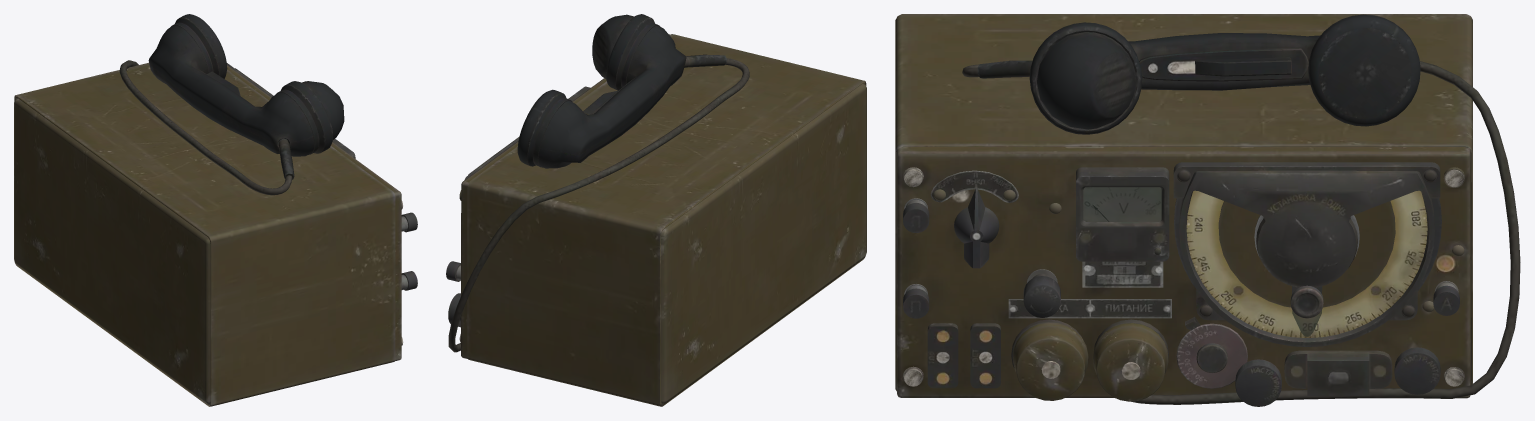
Rendered from a7b_ussr_military_radio-opt.glb.
3 views of the same model, side by side, from view 1: azimuth 30°, elevation 25°; view 2: azimuth 150°, elevation 25°; view 3: azimuth 270°, elevation 25° (orthographic). The views are drawn at different scales.
Visible parts, largest first — view 1: A7b_militaryradio_a7b texture_0; view 2: A7b_militaryradio_a7b texture_0; view 3: A7b_militaryradio_a7b texture_0, strzalkaplaskiowa_low.001_a7b texture glass_0.
Part boxes in pixels (x1=…): A7b_militaryradio_a7b texture_0: x1=14, y1=14, x2=417, y2=406; A7b_militaryradio_a7b texture_0: x1=446, y1=14, x2=866, y2=406; A7b_militaryradio_a7b texture_0: x1=895, y1=14, x2=1520, y2=406; strzalkaplaskiowa_low.001_a7b texture glass_0: x1=1083, y1=187, x2=1321, y2=336.
Size of the model in its own units: 18.55 by 19.19 by 31.02.
Materials: 2 (2 with a texture image).
